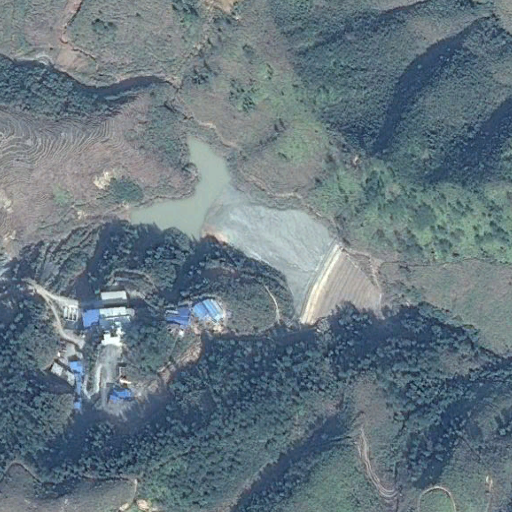tp: (122, 132, 386, 327)
